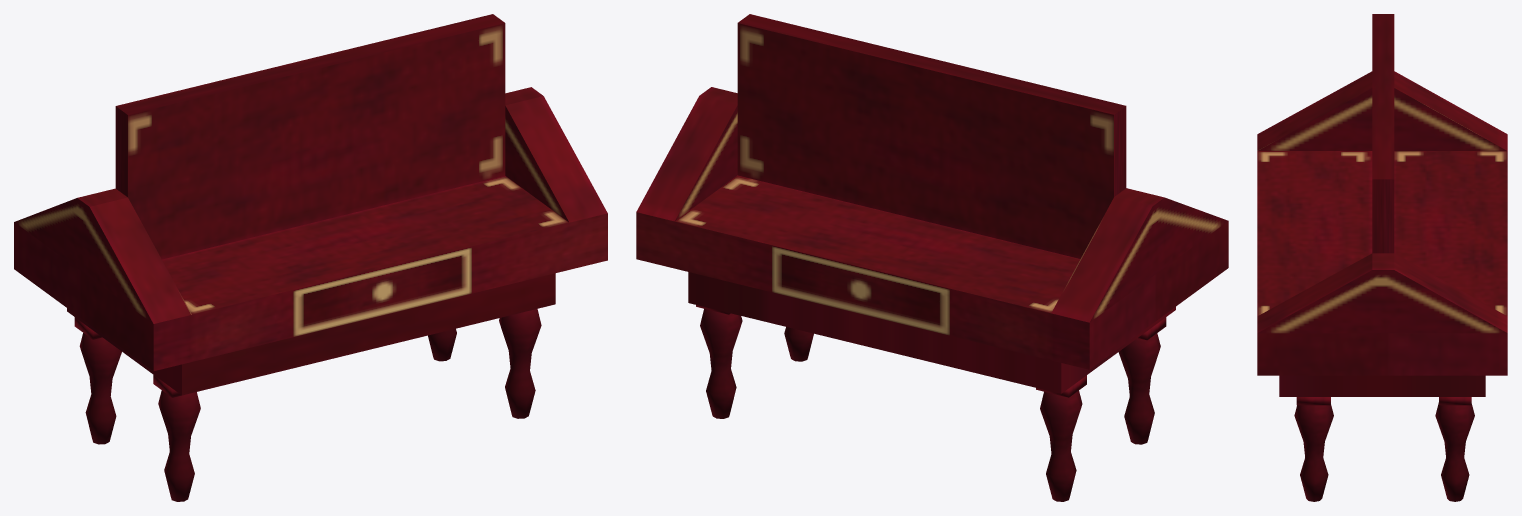
Rendered from stand2-1.FBX.
3 views of the same model, side by side, from view 1: azimuth 30°, elevation 25°; view 2: azimuth 150°, elevation 25°; view 3: azimuth 270°, elevation 25° (orthographic). The views are drawn at different scales.
Visible parts, largest first — view 1: stand2-1; view 2: stand2-1; view 3: stand2-1.
Part boxes in pixels (x1=…): stand2-1: x1=14, y1=14, x2=607, y2=501; stand2-1: x1=636, y1=14, x2=1228, y2=501; stand2-1: x1=1257, y1=14, x2=1507, y2=501.
Size of the model in its own units: 242 by 186 by 129.
